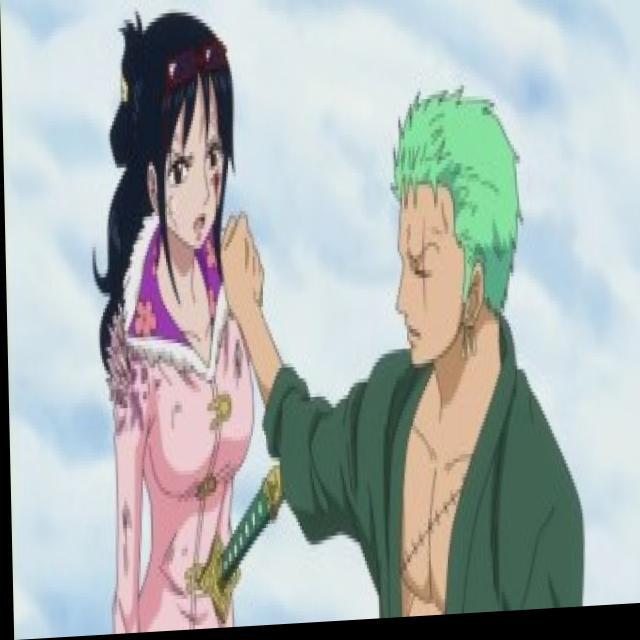NicoRobin: (105, 15, 249, 273)
Zoro: (383, 78, 535, 371)
